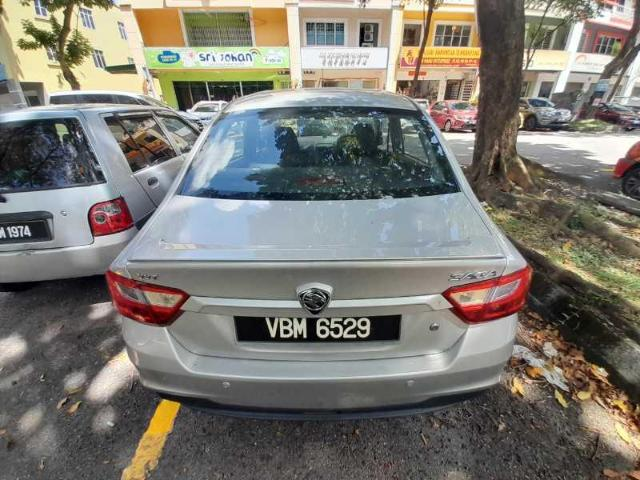License_Plate: (234, 314, 403, 344)
car: (105, 87, 533, 419)
